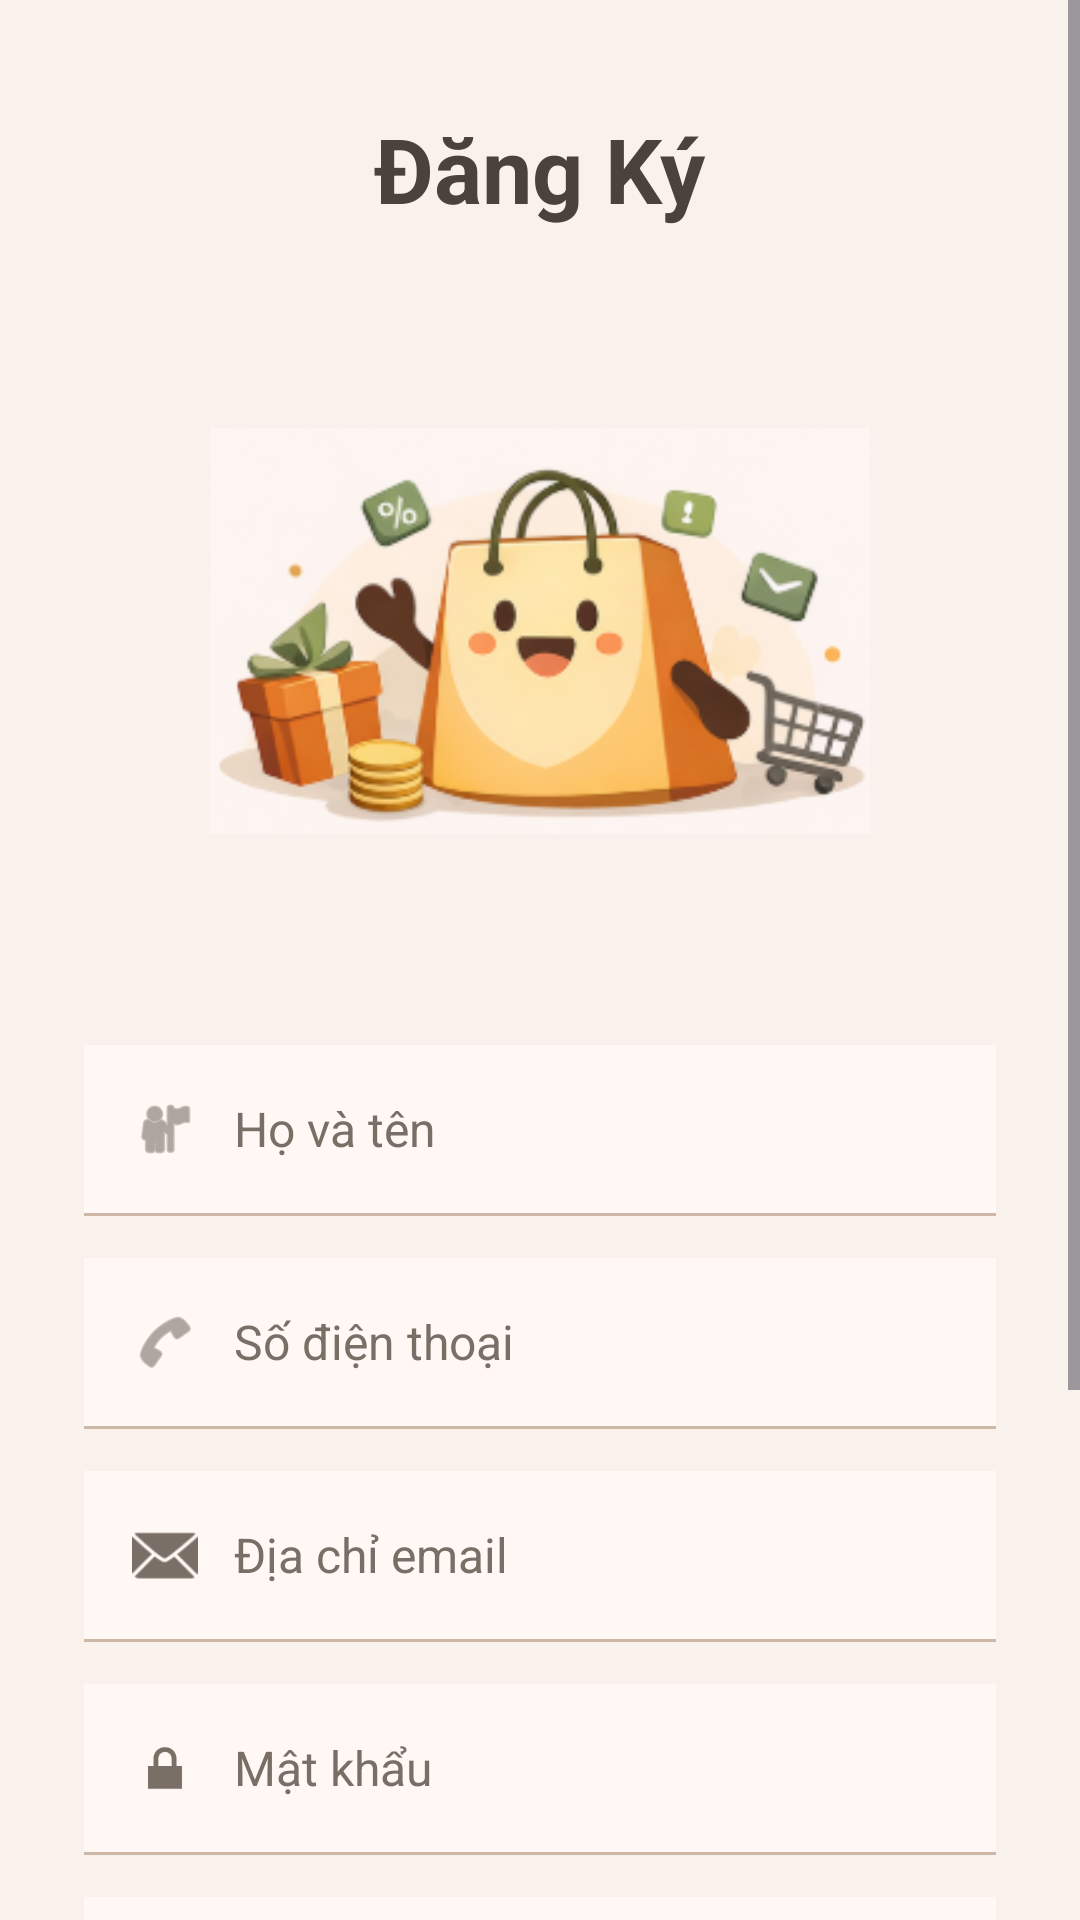

Locate icon controls on the screen. Image size 1080px×1920px, boxes as detection(x1, y1, x2, y2).
name icon: detection(141, 1105, 190, 1153)
password icon: detection(148, 1747, 182, 1789)
phone icon: detection(140, 1317, 191, 1368)
